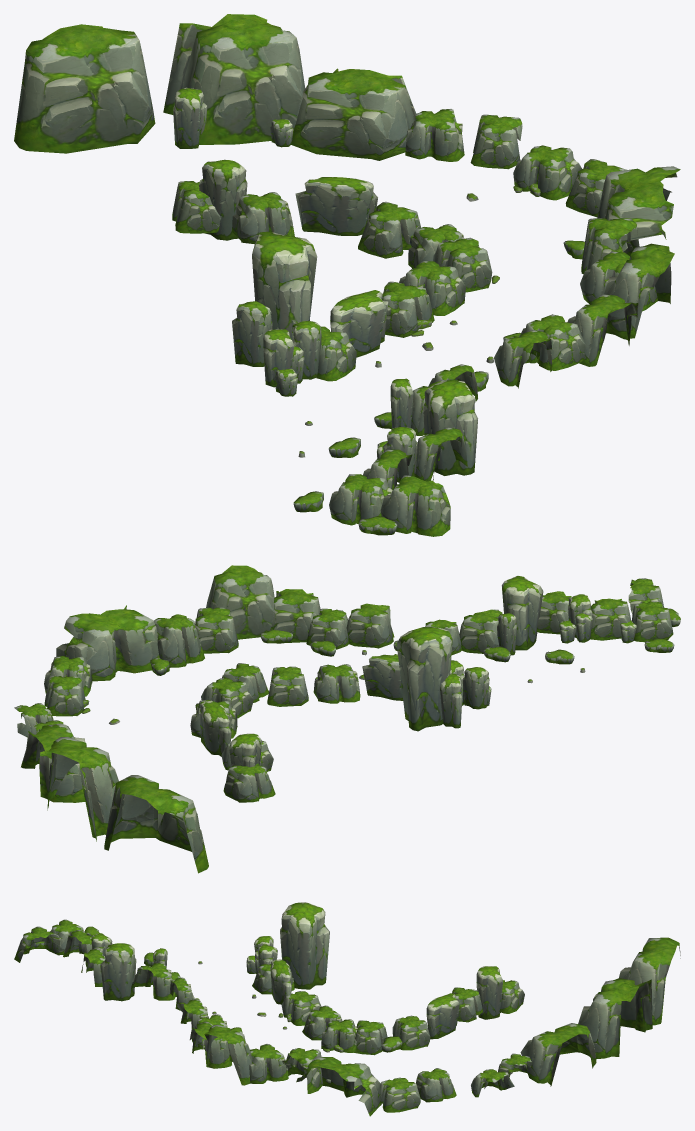
File: lvyanshi_06.fbx
The picture shows the model from 3 angles, top to bottom: view 1: azimuth 30°, elevation 25°; view 2: azimuth 150°, elevation 25°; view 3: azimuth 270°, elevation 25°; orthographic projection. The views are drawn at different scales.
Visible parts, largest first — view 1: polySurface2; view 2: polySurface2; view 3: polySurface2.
Boxes of the visible parts, x1,y1,x2,y2 form: polySurface2: (14, 14, 680, 536); polySurface2: (14, 565, 680, 873); polySurface2: (14, 902, 680, 1116).
Bounding box in the file's own units: 12199 × 2516 × 18760.
